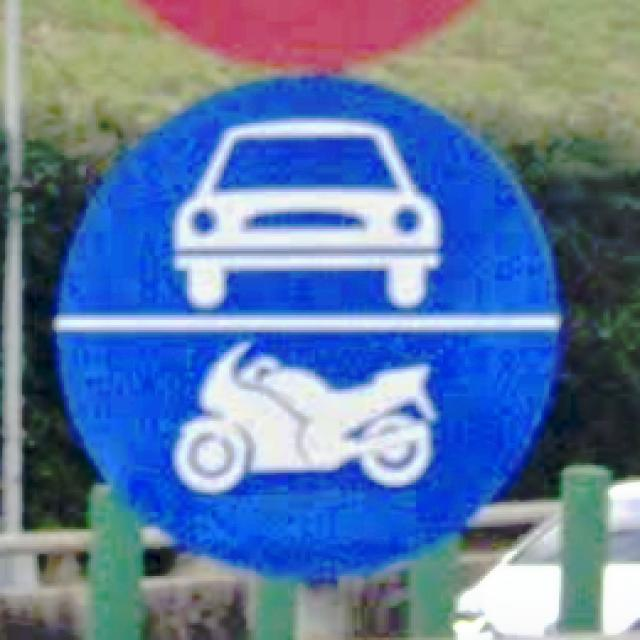carmotorcycle: (54, 74, 561, 583)
